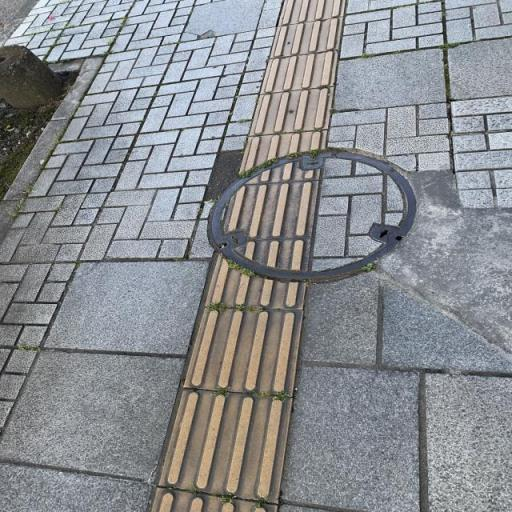line: (161, 386, 291, 507), (182, 306, 305, 397)
